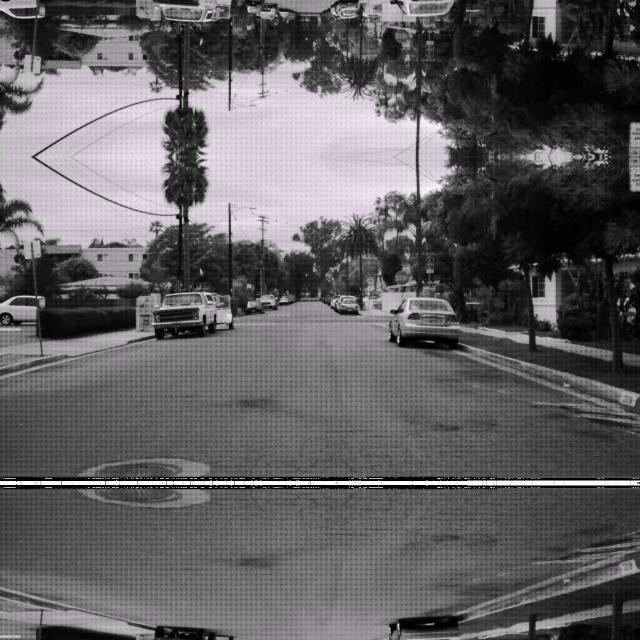stop: (394, 268, 408, 284), (394, 28, 408, 44)
